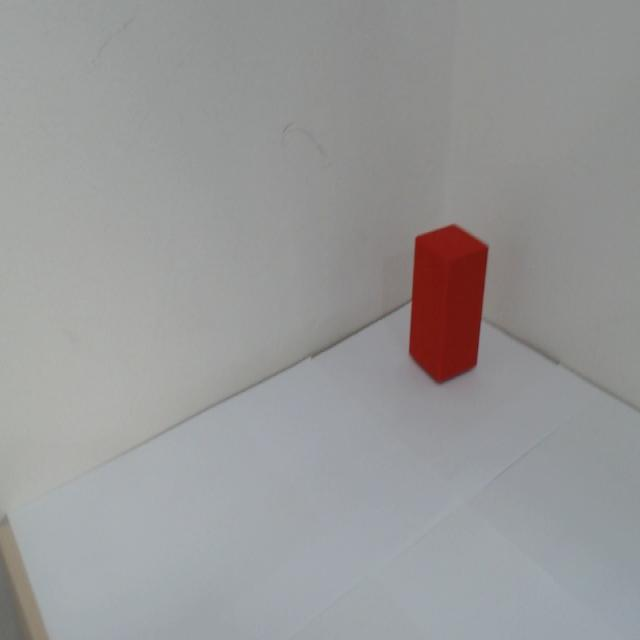cube: (401, 217, 493, 393)
